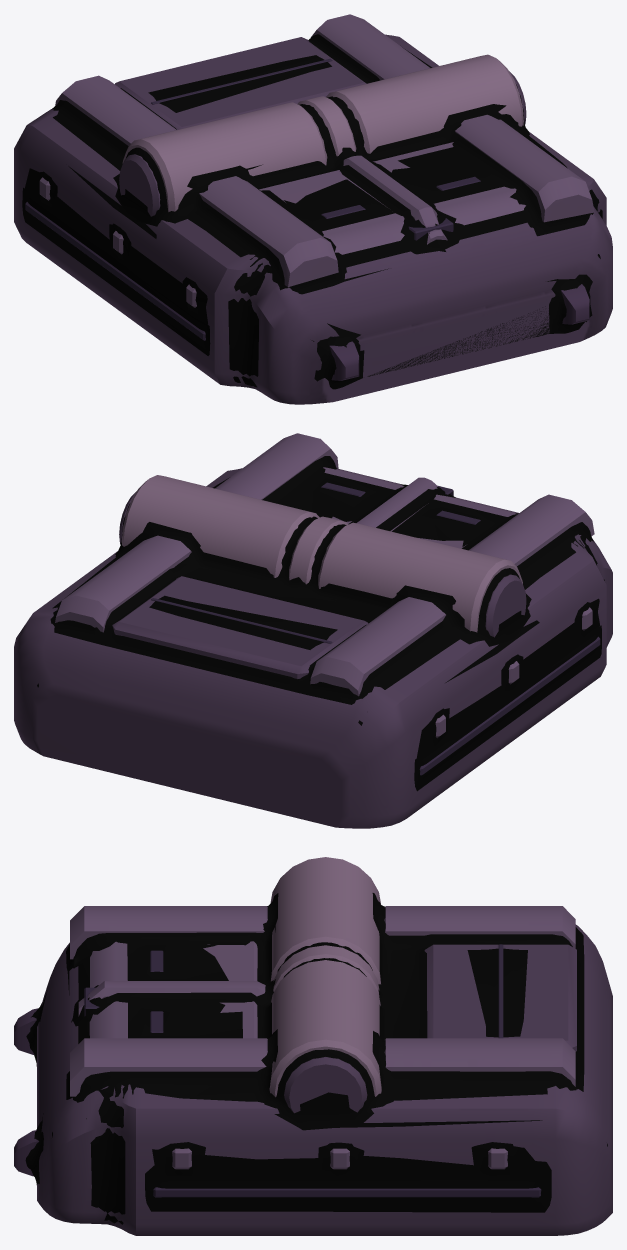
Rendered from newsh9-123.glb.
The picture shows the model from 3 angles, top to bottom: view 1: azimuth 30°, elevation 25°; view 2: azimuth 150°, elevation 25°; view 3: azimuth 270°, elevation 25°; orthographic projection. The views are drawn at different scales.
Parts seen in each view (by area): view 1: newsh9-123, newsh9-123_outline; view 2: newsh9-123, newsh9-123_outline; view 3: newsh9-123, newsh9-123_outline.
Boxes of the visible parts, x1=… form: newsh9-123: x1=14, y1=14, x2=612, y2=404; newsh9-123_outline: x1=22, y1=34, x2=602, y2=389; newsh9-123: x1=14, y1=433, x2=612, y2=828; newsh9-123_outline: x1=37, y1=456, x2=604, y2=791; newsh9-123: x1=14, y1=857, x2=612, y2=1235; newsh9-123_outline: x1=25, y1=893, x2=607, y2=1224.
Size of the model in its own units: 1.45 by 0.6 by 1.74.
Materials: 10 (9 with a texture image).
